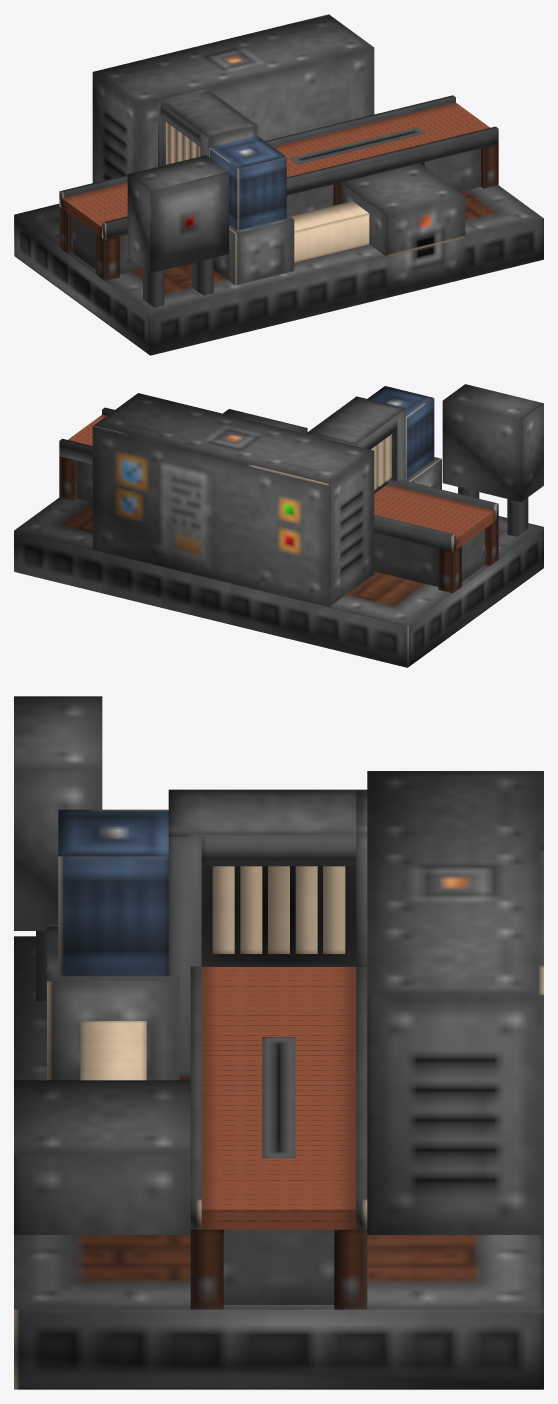
File: sawmill.obj
3 renders of one model, top to bottom at view 1: azimuth 30°, elevation 25°; view 2: azimuth 150°, elevation 25°; view 3: azimuth 270°, elevation 25°, orthographic. The views are drawn at different scales.
Visible parts, largest first — view 1: base, redstone, conveyors; view 2: base, redstone, conveyors; view 3: base, conveyors, redstone.
Boxes of the visible parts, left/top/right/bottom form: base: left=14, top=14, right=543, bottom=355; redstone: left=127, top=155, right=228, bottom=307; conveyors: left=62, top=102, right=489, bottom=237; base: left=14, top=386, right=543, bottom=667; redstone: left=442, top=384, right=543, bottom=536; conveyors: left=68, top=414, right=495, bottom=549; base: left=14, top=771, right=543, bottom=1389; conveyors: left=201, top=967, right=356, bottom=1229; redstone: left=14, top=696, right=102, bottom=1001.
Size of the model in its own units: 5 by 2 by 3.
